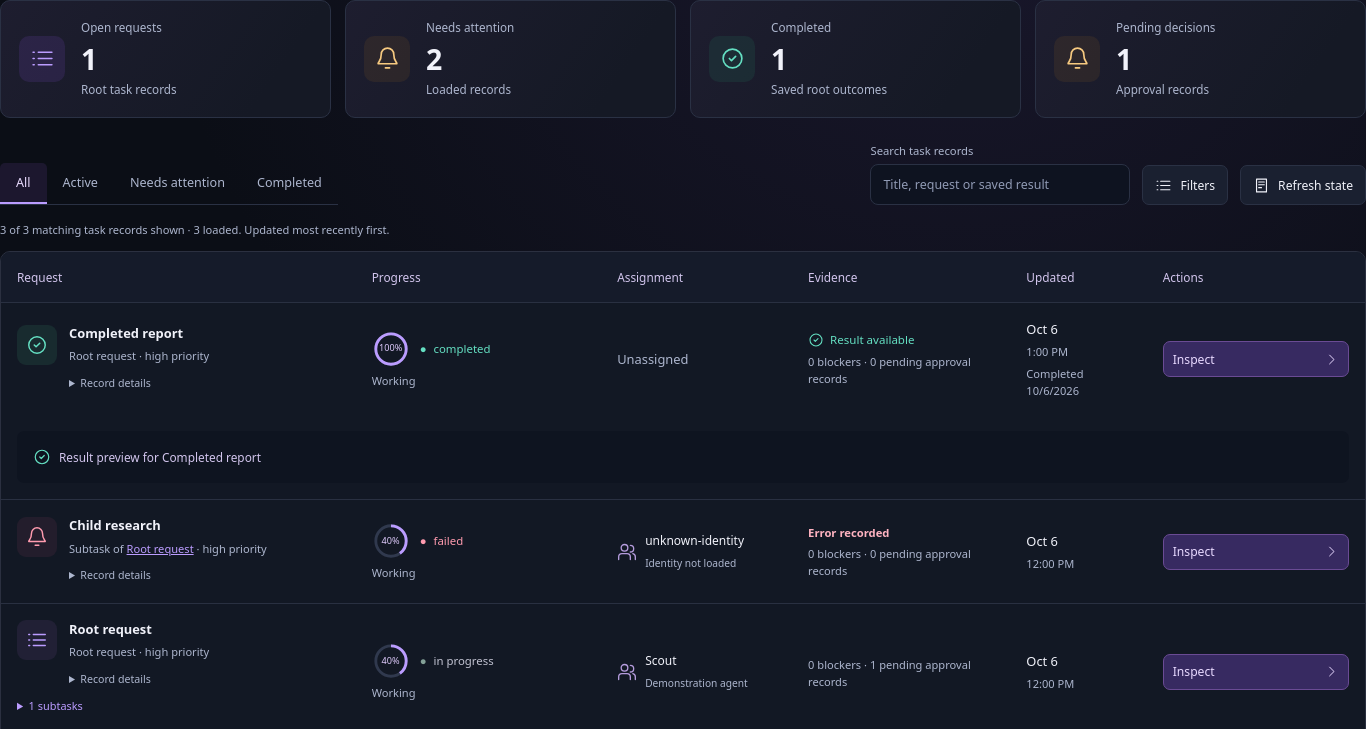
attention counts pending records and excludes old approved IDs
The width and height of the screenshot is (1366, 729).
Step 1. Click the button "Filters" → (1185, 185), box [1142, 165, 1228, 205]
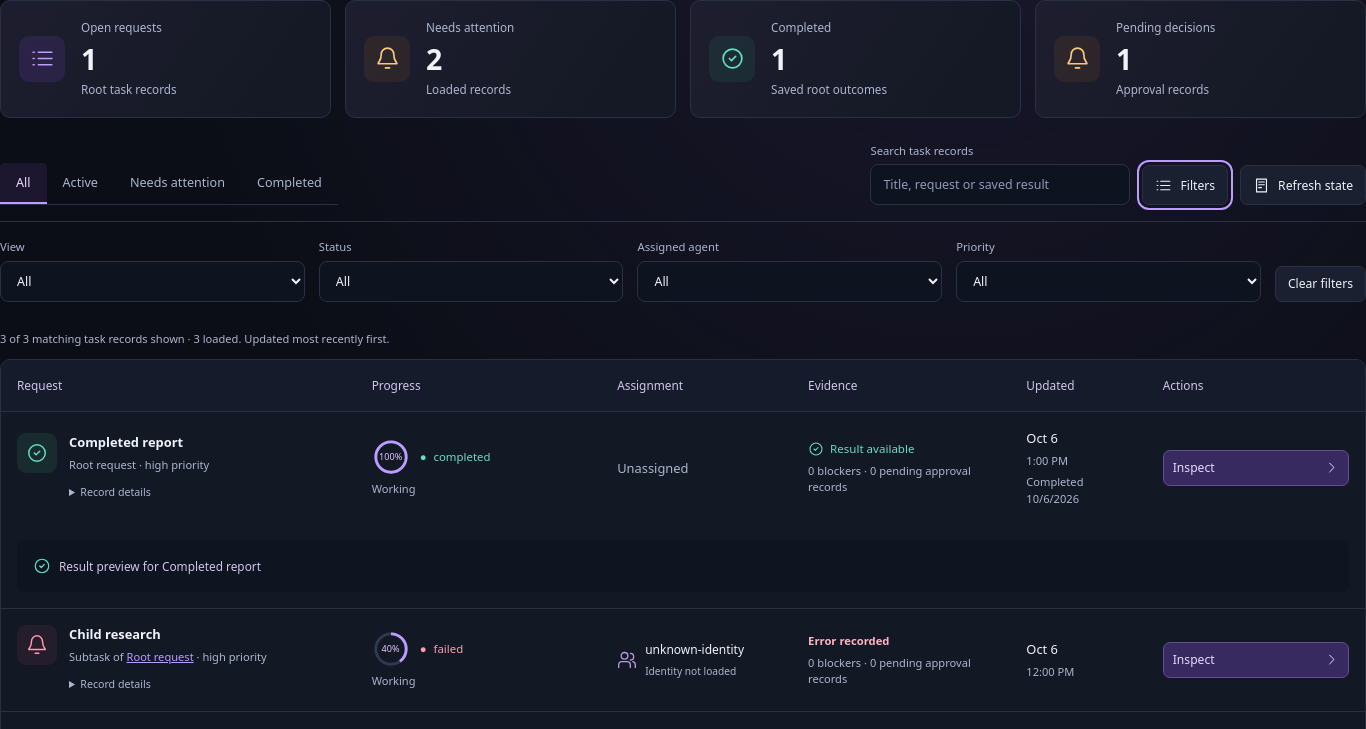
Step 2. Select "Needs attention" in the dropdown labelled "View" → (152, 281), box [0, 261, 305, 302]
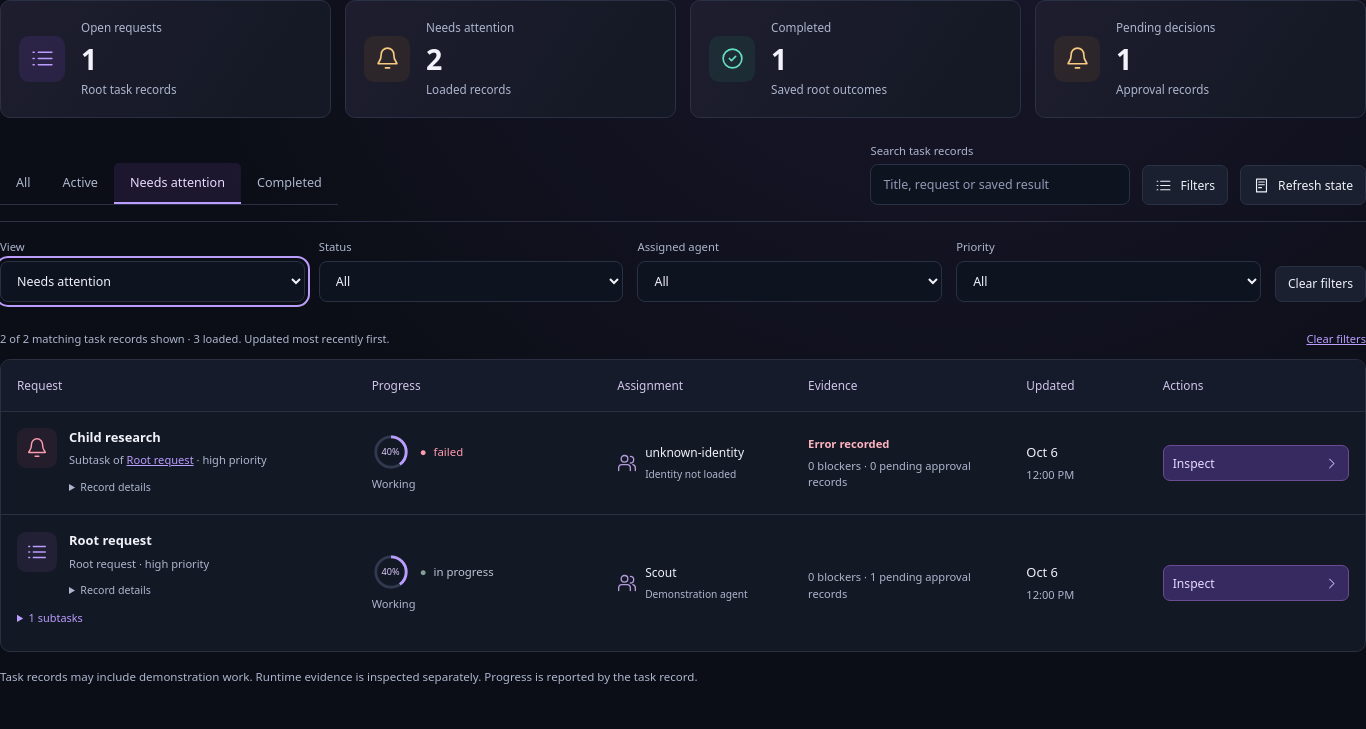
Expected: the text "0 blockers · 1 pending approval records" is shown, [808, 569, 994, 602]
Expected: the text "2 of 2 matching" is shown, [0, 330, 390, 348]
Expected: the text "Completed report" is gone
